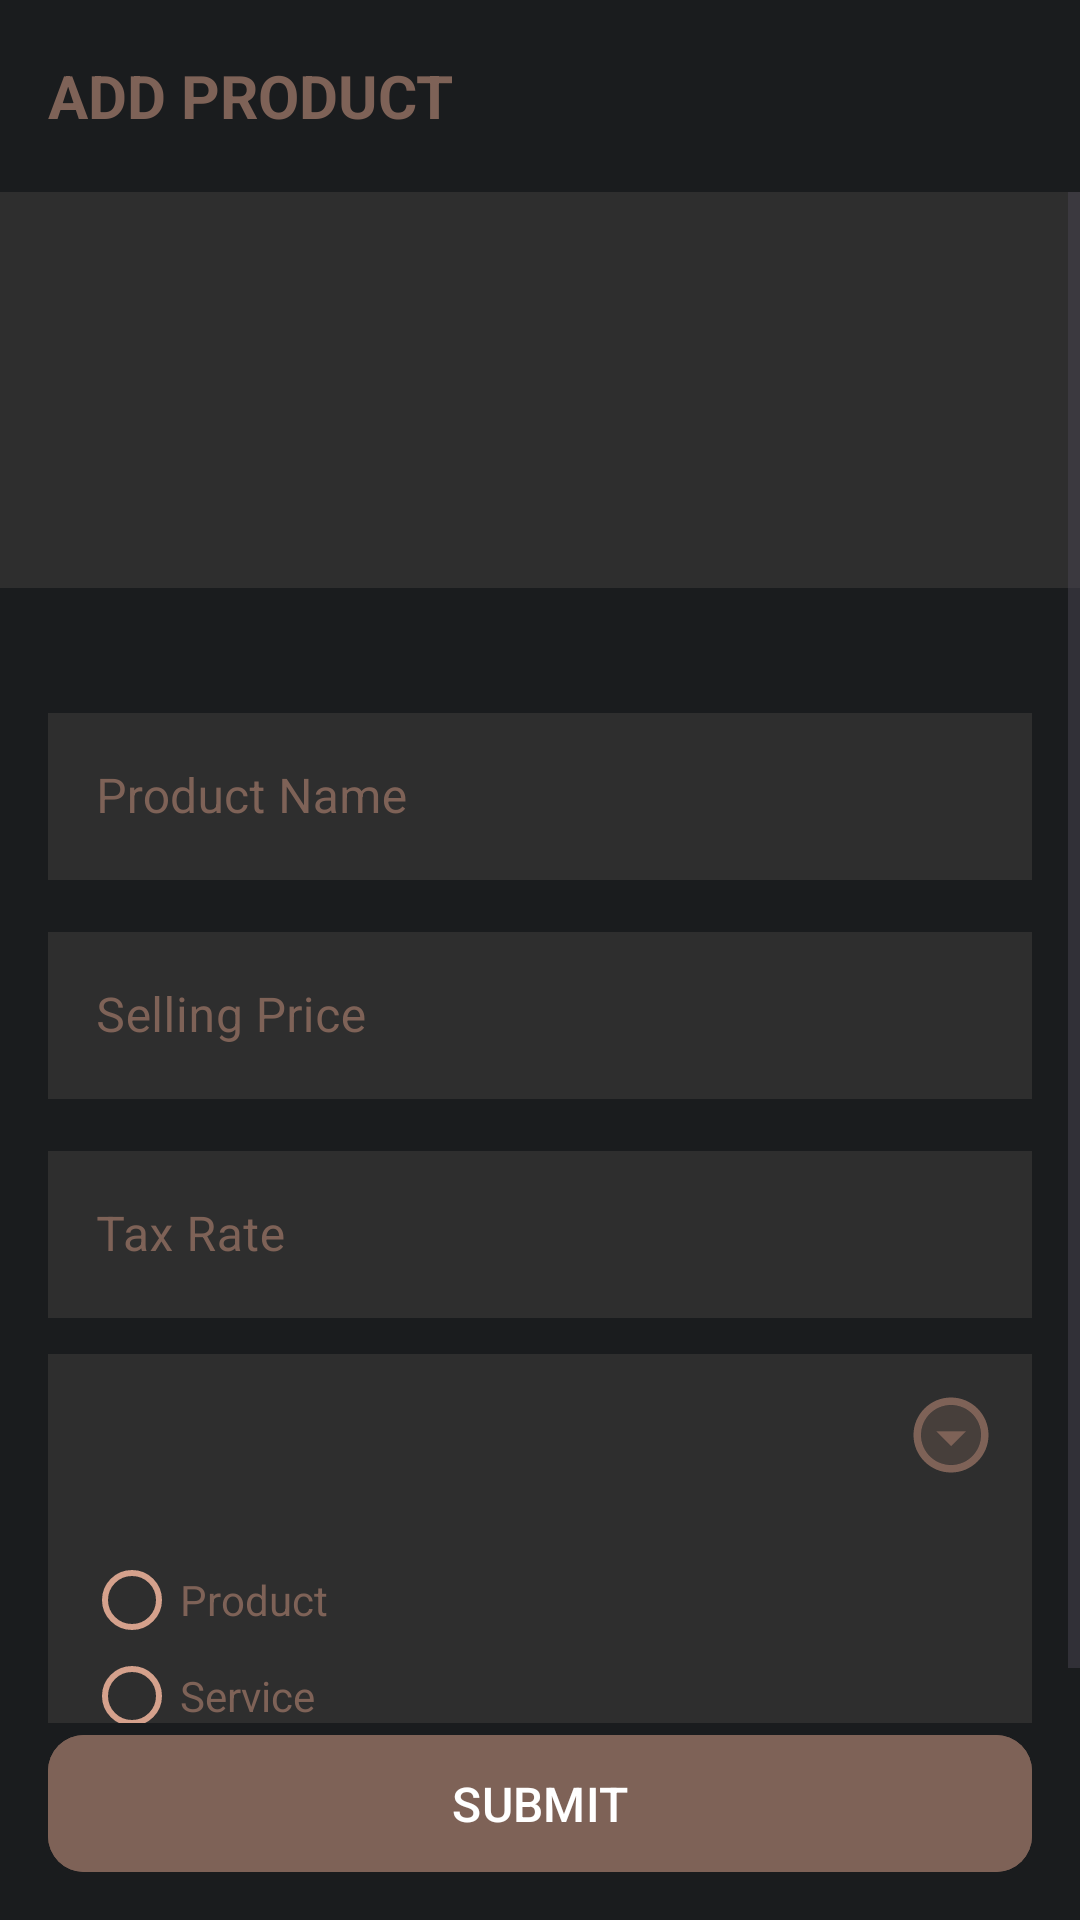

Icon click points for this 1080w x 1920h phone screenshot, format [x,y]:
arrow down: [951,1435]
